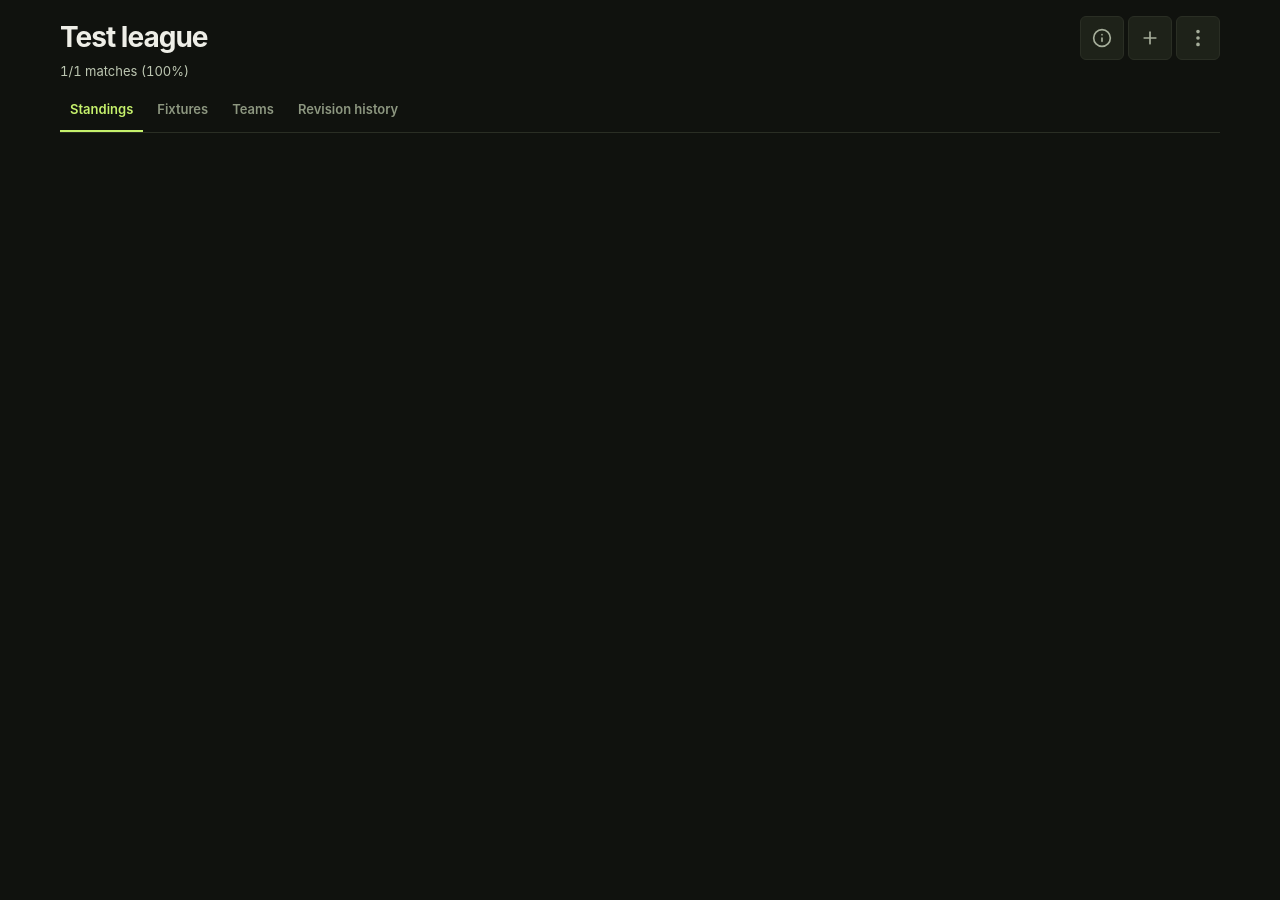
it: tournament actions open from the title menu
The width and height of the screenshot is (1280, 900).
Click the button named "Tournament actions".
click(1198, 38)  # box [1176,16,1220,60]
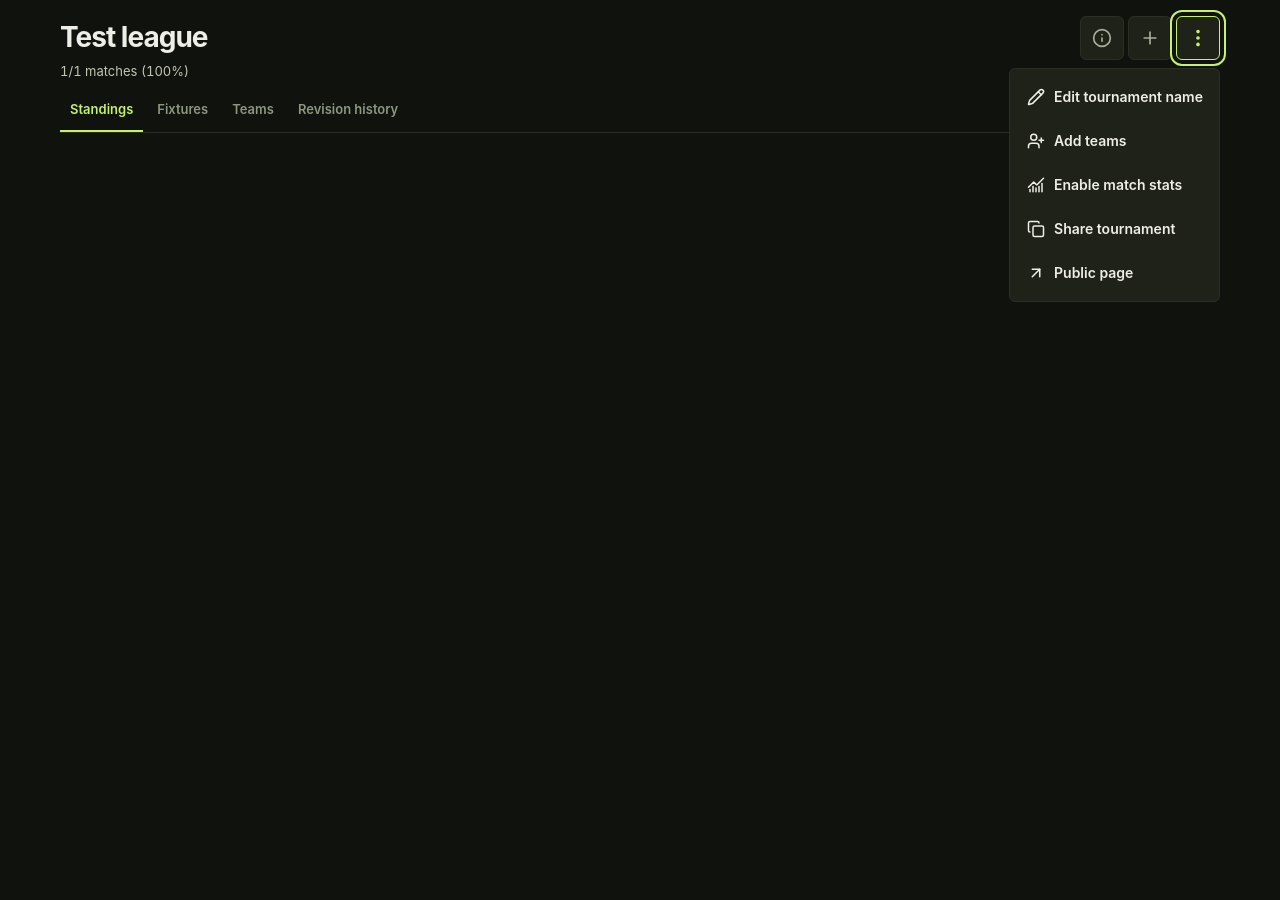
Click the button "Edit tournament name".
click(1114, 97)  # box [1016,75,1213,119]
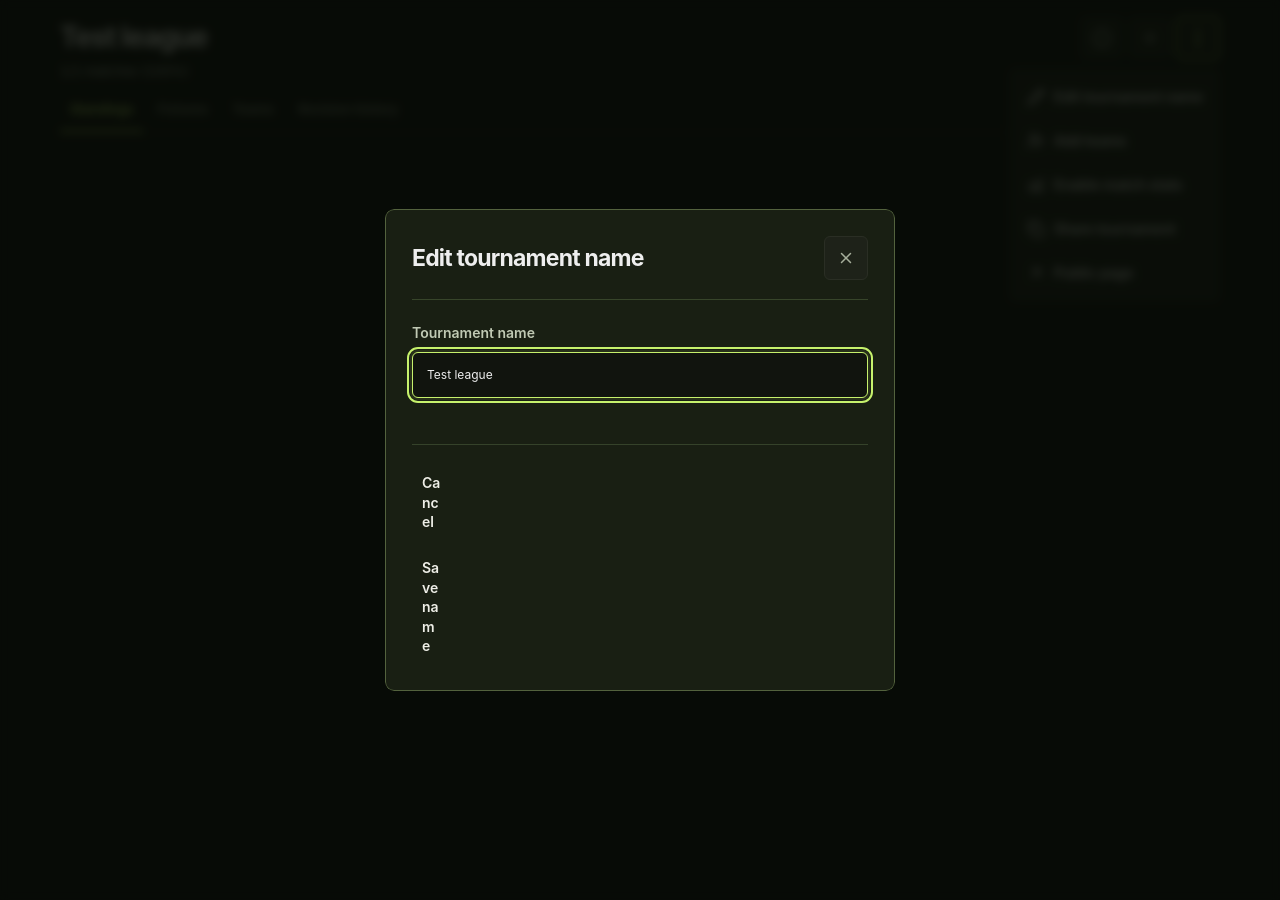
Expected: the dialog is shown, [385,209,895,691]
